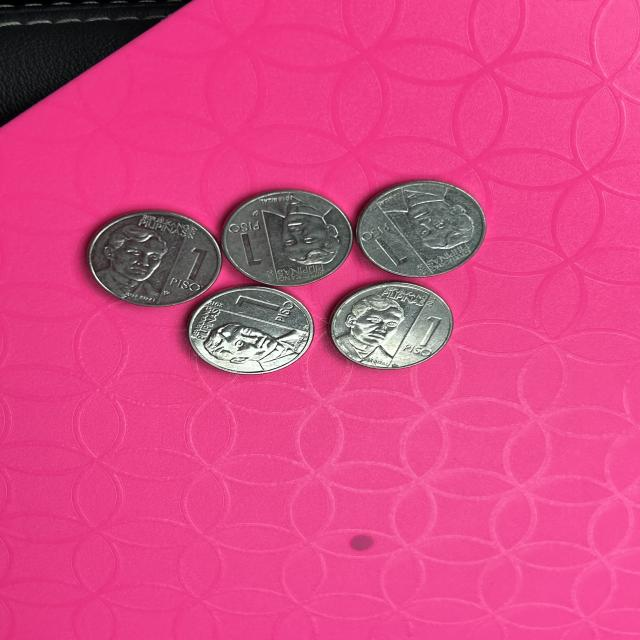1_New_Front: (164, 238, 218, 295), (352, 223, 406, 271), (230, 292, 290, 330), (231, 218, 266, 276), (405, 314, 443, 360)
